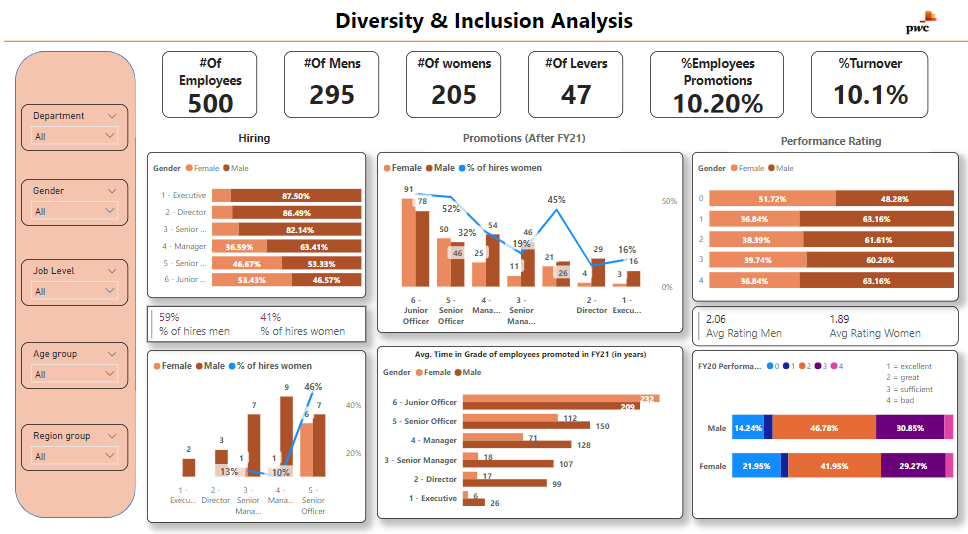

The page's visual inventory and layout, read from the dashboard file:
{"tool":"powerbi","page":{"name":"Diversity & Inclustion","canvas":[1450,800],"ordinal":0},"visuals":[{"type":"lineClusteredColumnComboChart","title":"Last hire date By Gender","fields":{"Series":["Pharma Group AG.Gender"],"Category":["Pharma Group AG.Job Level after FY21 promotions"],"Y2":["Pharma Group AG.% of hires women"],"Y":["CountNonNull(Pharma Group AG.Employee ID)"]},"box":[563.3,228.3,456.7,270],"z":0},{"type":"lineClusteredColumnComboChart","title":"Employees Promotion by Gender in FY 20","fields":{"Y":["CountNonNull(Pharma Group AG.Employee ID)"],"Y2":["Pharma Group AG.% of hires women"],"Series":["Pharma Group AG.Gender"],"Category":["Pharma Group AG.Job Level after FY20 promotions"]},"box":[220,523.3,326.7,258.3],"z":1000},{"type":"shape","box":[21.7,78.3,180,696.7],"z":2000},{"type":"hundredPercentStackedBarChart","title":"Employees Promotion by Gender in FY21","fields":{"Category":["Pharma Group AG.Job Level after FY20 promotions"],"Series":["Pharma Group AG.Gender"],"Y":["CountNonNull(Pharma Group AG.Employee ID)"]},"box":[220,228.3,326.7,218.3],"z":3000},{"type":"clusteredBarChart","title":"Avg. Time in Grade of employees promoted in FY21 (in years)","fields":{"Y":["Sum(Pharma Group AG.Time in Job Level @01.07.2020)"],"Category":["Pharma Group AG.Job Level after FY20 promotions"],"Series":["Pharma Group AG.Gender"]},"box":[563.3,518.3,456.7,258.3],"z":4000},{"type":"textbox","box":[96.7,3.3,1268.3,53.3],"z":5000},{"type":"textbox","box":[220,191.7,320,36.7],"z":6000},{"type":"multiRowCard","fields":{"Values":["Pharma Group AG.% of hires men","Pharma Group AG.% of hires women"]},"box":[220,458.3,326.7,54],"z":7000},{"type":"textbox","box":[635,191.7,291.7,36.7],"z":8000},{"type":"image","box":[1298.3,0,151.7,70],"z":9000},{"type":"slicer","fields":{"Values":["Pharma Group AG.Last Department in FY20"]},"box":[31.7,156.7,160,70],"z":10000},{"type":"slicer","fields":{"Values":["Pharma Group AG.Job Level after FY20 promotions"]},"box":[31.7,388.3,160,70],"z":11000},{"type":"slicer","fields":{"Values":["Pharma Group AG.Age group"]},"box":[31.7,511.7,160,70],"z":12000},{"type":"slicer","fields":{"Values":["Pharma Group AG.Broad region group: nationality 1"]},"box":[31.7,635,160,70],"z":13000},{"type":"shape","box":[6.7,56.7,1443.3,13.3],"z":14000},{"type":"card","title":"#Of Mens","fields":{"Values":["Pharma Group AG.# of mens"]},"box":[423.7,78.3,141.7,100],"z":15000},{"type":"card","title":"#Of womens","fields":{"Values":["Pharma Group AG.# of womens"]},"box":[605.7,78.3,141.7,100],"z":16000},{"type":"card","title":"#Of Levers","fields":{"Values":["Pharma Group AG.# of Levers"]},"box":[787.7,78.3,141.7,100],"z":17000},{"type":"card","title":"%Employees Promotions ","fields":{"Values":["Pharma Group AG.% employess Promotions in FY21"]},"box":[969.7,78.3,200,100],"z":18000},{"type":"multiRowCard","fields":{"Values":["Pharma Group AG.Avg Rating Men","Pharma Group AG.Avg Rating Women"]},"box":[1033.3,458.3,398.3,60],"z":19000},{"type":"textbox","box":[1319,533.7,90.7,77.6],"z":20000},{"type":"hundredPercentStackedBarChart","fields":{"Category":["Pharma Group AG.Gender"],"Y":["CountNonNull(Pharma Group AG.Employee ID)"],"Series":["Pharma Group AG.FY20 Performance Rating"]},"box":[1033.3,523.3,396.7,251.7],"z":21000},{"type":"textbox","box":[1318.3,533.3,90,78.3],"z":22000},{"type":"hundredPercentStackedBarChart","fields":{"Category":["Pharma Group AG.FY20 Performance Rating"],"Series":["Pharma Group AG.Gender"],"Y":["CountNonNull(Pharma Group AG.Employee ID)"]},"box":[1033.3,228.3,398.3,223.3],"z":23000},{"type":"textbox","box":[1088.3,195,300,33.3],"z":24000},{"type":"card","title":"%Turnover","fields":{"Values":["Pharma Group AG.% Turnover"]},"box":[1210,78.3,175,100],"z":25000},{"type":"slicer","fields":{"Values":["Pharma Group AG.Gender"]},"box":[31.7,268.3,160,70],"z":26000},{"type":"card","title":"#Of Employees","fields":{"Values":["CountNonNull(Pharma Group AG.Employee ID)"]},"box":[241.7,78.3,141.7,100],"z":27000},{"type":"image","box":[38.8,3,73.1,56.7],"z":28000}]}

Visuals, with their boxes in screenshot pixels (x1, y1, x2, y2), scaled from the page's 1450x800 canvas onto the 968x534 screenshot:
"Last hire date By Gender" lineClusteredColumnComboChart: bbox=[376, 152, 681, 333]
"Employees Promotion by Gender in FY 20" lineClusteredColumnComboChart: bbox=[147, 349, 365, 522]
shape: bbox=[14, 52, 135, 517]
"Employees Promotion by Gender in FY21" hundredPercentStackedBarChart: bbox=[147, 152, 365, 298]
"Avg. Time in Grade of employees promoted in FY21 (in years)" clusteredBarChart: bbox=[376, 346, 681, 518]
textbox: bbox=[65, 2, 911, 38]
textbox: bbox=[147, 128, 360, 152]
multiRowCard - Pharma Group AG.% of hires men x Pharma Group AG.% of hires women: bbox=[147, 306, 365, 342]
textbox: bbox=[424, 128, 619, 152]
image: bbox=[867, 0, 967, 47]
slicer - Pharma Group AG.Last Department in FY20: bbox=[21, 105, 128, 151]
slicer - Pharma Group AG.Job Level after FY20 promotions: bbox=[21, 259, 128, 306]
slicer - Pharma Group AG.Age group: bbox=[21, 342, 128, 388]
slicer - Pharma Group AG.Broad region group: nationality 1: bbox=[21, 424, 128, 471]
shape: bbox=[4, 38, 967, 47]
"#Of Mens" card: bbox=[283, 52, 377, 119]
"#Of womens" card: bbox=[404, 52, 499, 119]
"#Of Levers" card: bbox=[526, 52, 620, 119]
"%Employees Promotions " card: bbox=[647, 52, 781, 119]
multiRowCard - Pharma Group AG.Avg Rating Men x Pharma Group AG.Avg Rating Women: bbox=[690, 306, 956, 346]
textbox: bbox=[881, 356, 941, 408]
hundredPercentStackedBarChart - Pharma Group AG.Gender x CountNonNull(Pharma Group AG.Employee ID): bbox=[690, 349, 955, 517]
textbox: bbox=[880, 356, 940, 408]
hundredPercentStackedBarChart - Pharma Group AG.FY20 Performance Rating x Pharma Group AG.Gender: bbox=[690, 152, 956, 301]
textbox: bbox=[727, 130, 927, 152]
"%Turnover" card: bbox=[808, 52, 925, 119]
slicer - Pharma Group AG.Gender: bbox=[21, 179, 128, 226]
"#Of Employees" card: bbox=[161, 52, 256, 119]
image: bbox=[26, 2, 75, 40]
